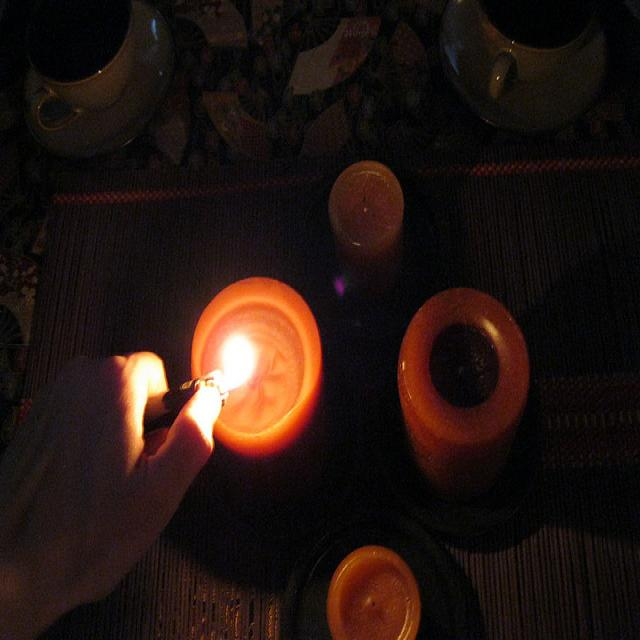People: (58, 319, 297, 640)
